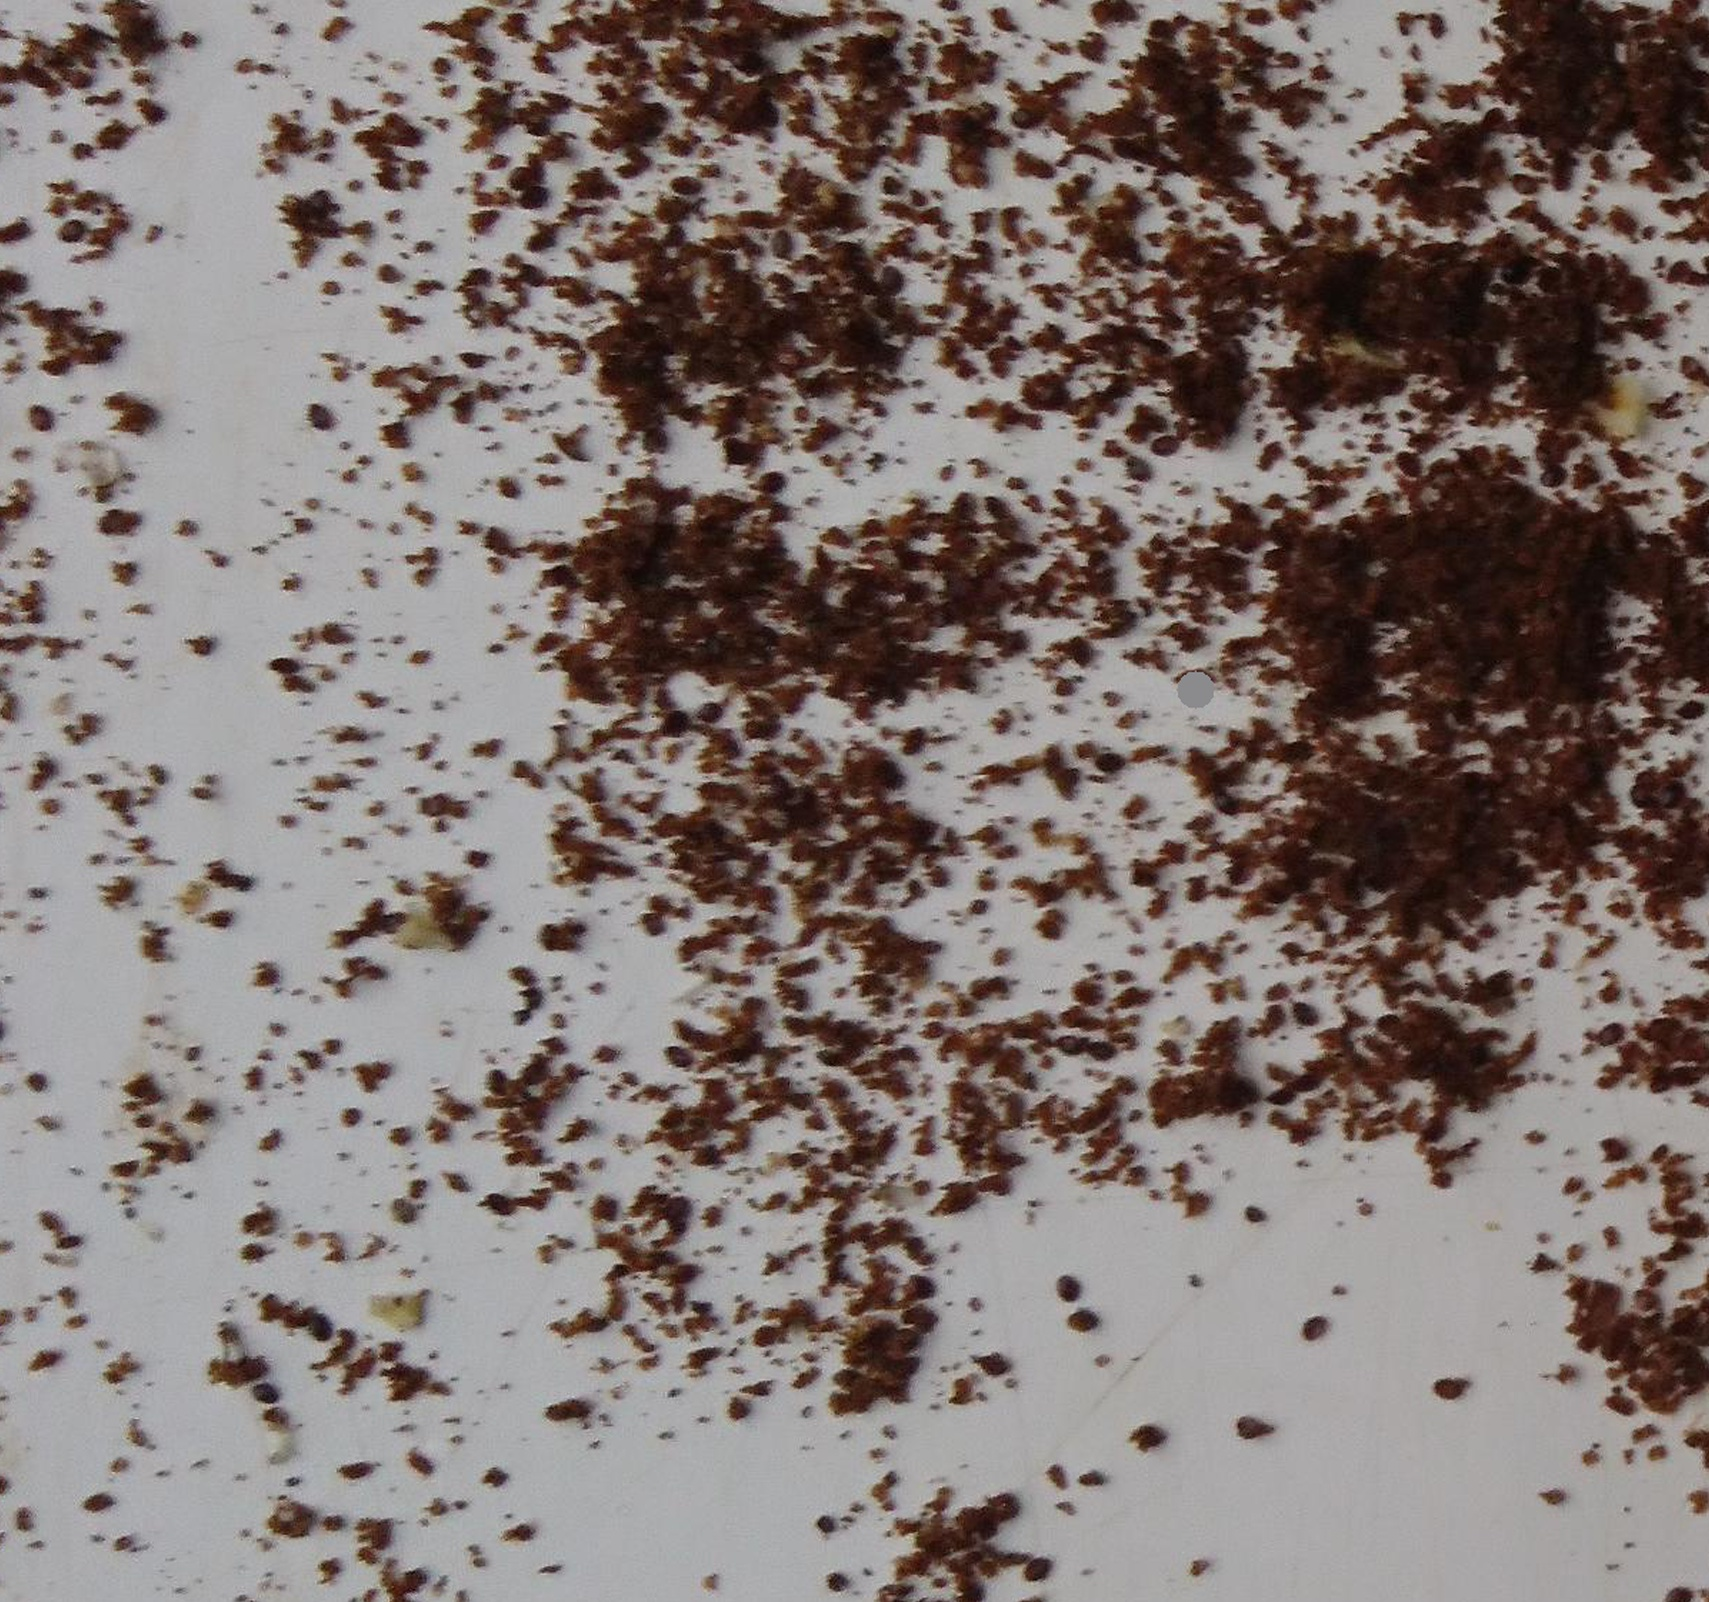Varroa: (89, 113, 133, 157), (759, 218, 803, 262), (866, 253, 909, 297), (745, 89, 789, 132), (506, 250, 550, 294), (1202, 780, 1245, 824), (1662, 1049, 1706, 1093), (495, 152, 538, 196), (509, 173, 553, 215), (663, 160, 706, 202), (1500, 160, 1542, 203), (1221, 142, 1263, 185), (1283, 989, 1327, 1031), (1649, 772, 1692, 815), (1634, 1055, 1676, 1099), (1284, 1055, 1328, 1098), (891, 714, 935, 756), (656, 1028, 699, 1072), (1077, 1028, 1119, 1071), (1049, 1019, 1092, 1061), (1616, 772, 1658, 815), (691, 688, 733, 730), (751, 459, 794, 501), (1622, 753, 1662, 796), (303, 1320, 342, 1360), (1059, 1298, 1095, 1336), (1432, 1372, 1467, 1406), (51, 214, 84, 247), (339, 1447, 370, 1479), (254, 1373, 286, 1405), (977, 1354, 1007, 1387), (1159, 431, 1190, 461), (1096, 747, 1126, 777), (1598, 1135, 1628, 1164), (1053, 1274, 1081, 1302), (1598, 1028, 1626, 1055), (1022, 1555, 1049, 1582), (29, 404, 53, 429), (1301, 1319, 1325, 1343), (1141, 438, 1162, 464)
